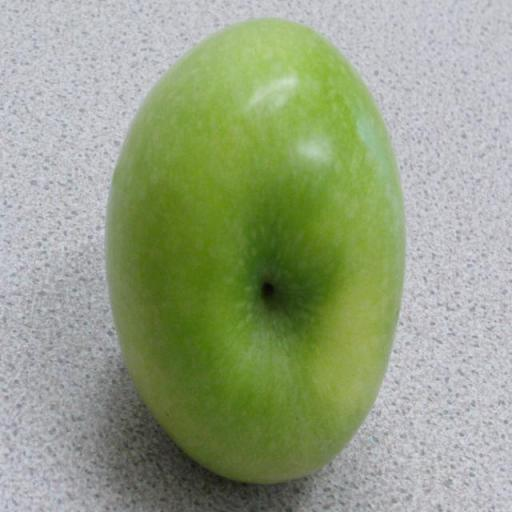fruit: (106, 19, 403, 482)
